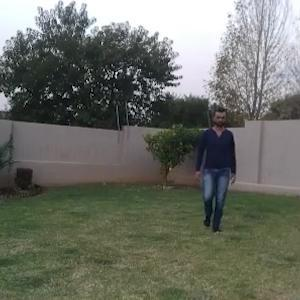follow: (196, 108, 236, 233)
